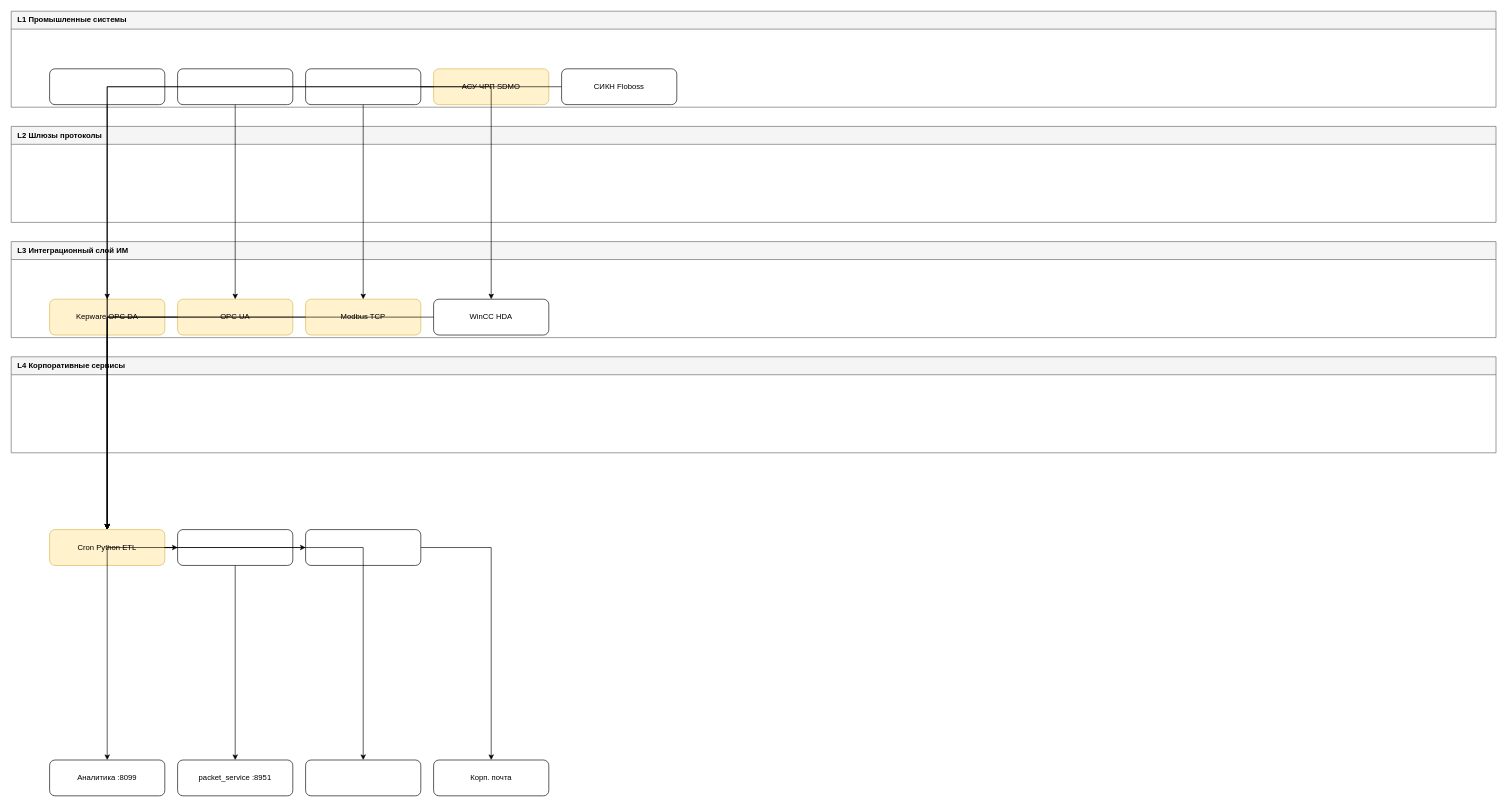
Some shapes in this 1507 by 807 pixel diagram are drawn without their labels. The shapes that lost their labels are listed below. From the top down, each one's centre as x and y in pixels, then its label:
the point at 107,86: ИСУН
the point at 235,86: АСУТП ТМ
the point at 363,86: Промысел КОА
the point at 235,547: REST клиенты
the point at 363,547: SMTP Celery Signals
the point at 363,777: Speech :8777
